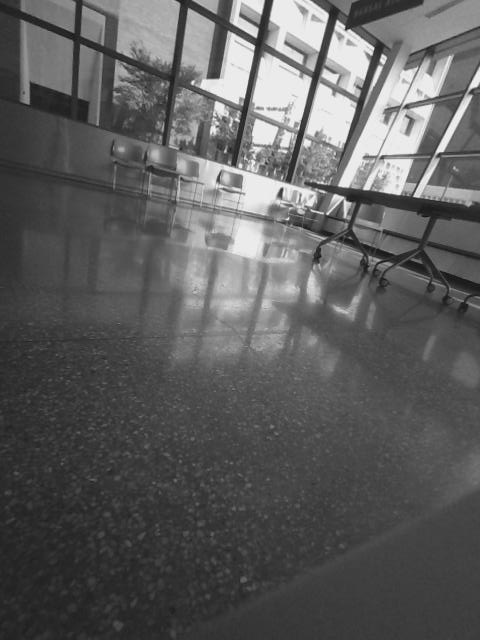ball: (262, 279, 332, 351)
